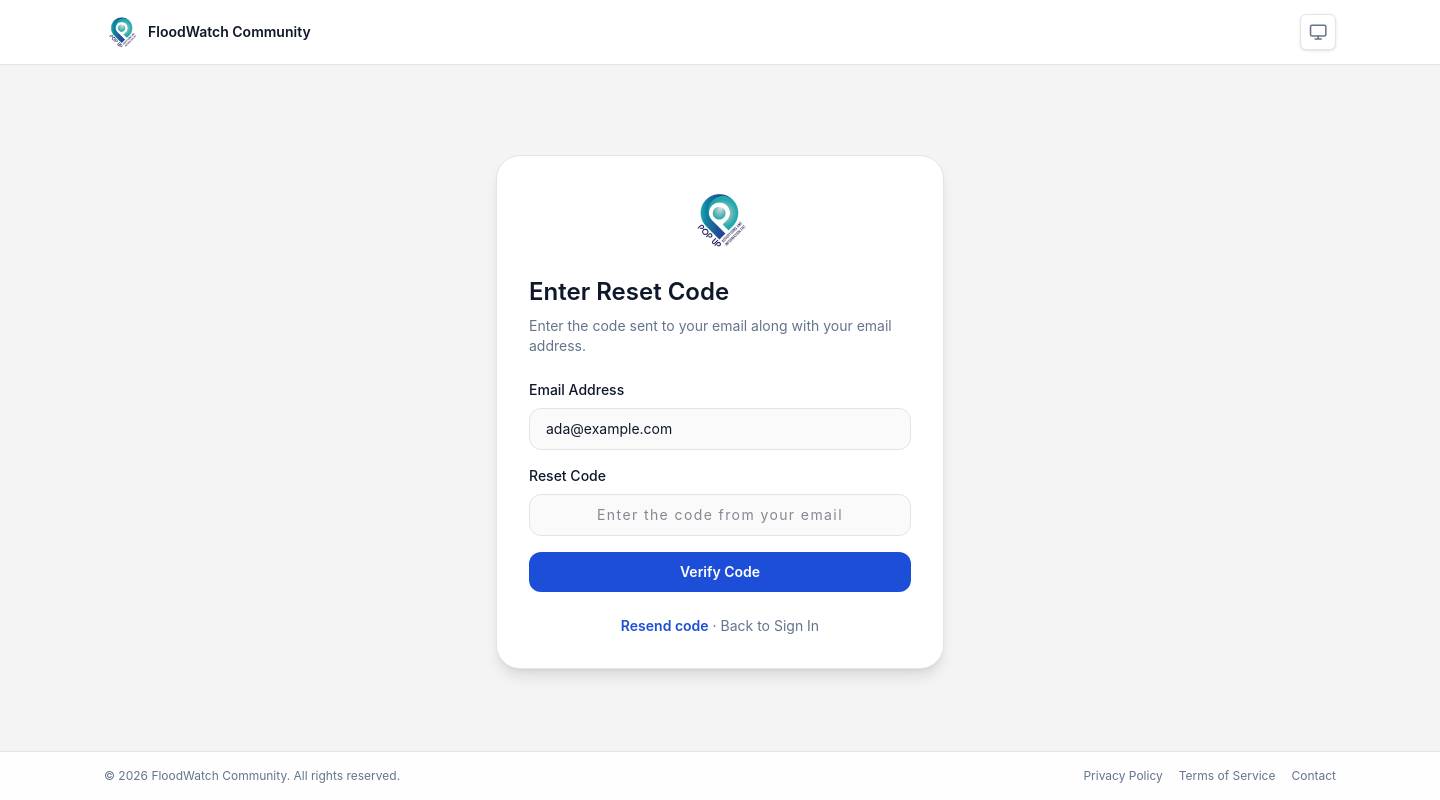
it: Community · reset password › advances to the new-password step after verifying the code
Type "123456" into the field with test id "reset-code" at (720,515), box top-left (529, 494), bottom-right (911, 536)
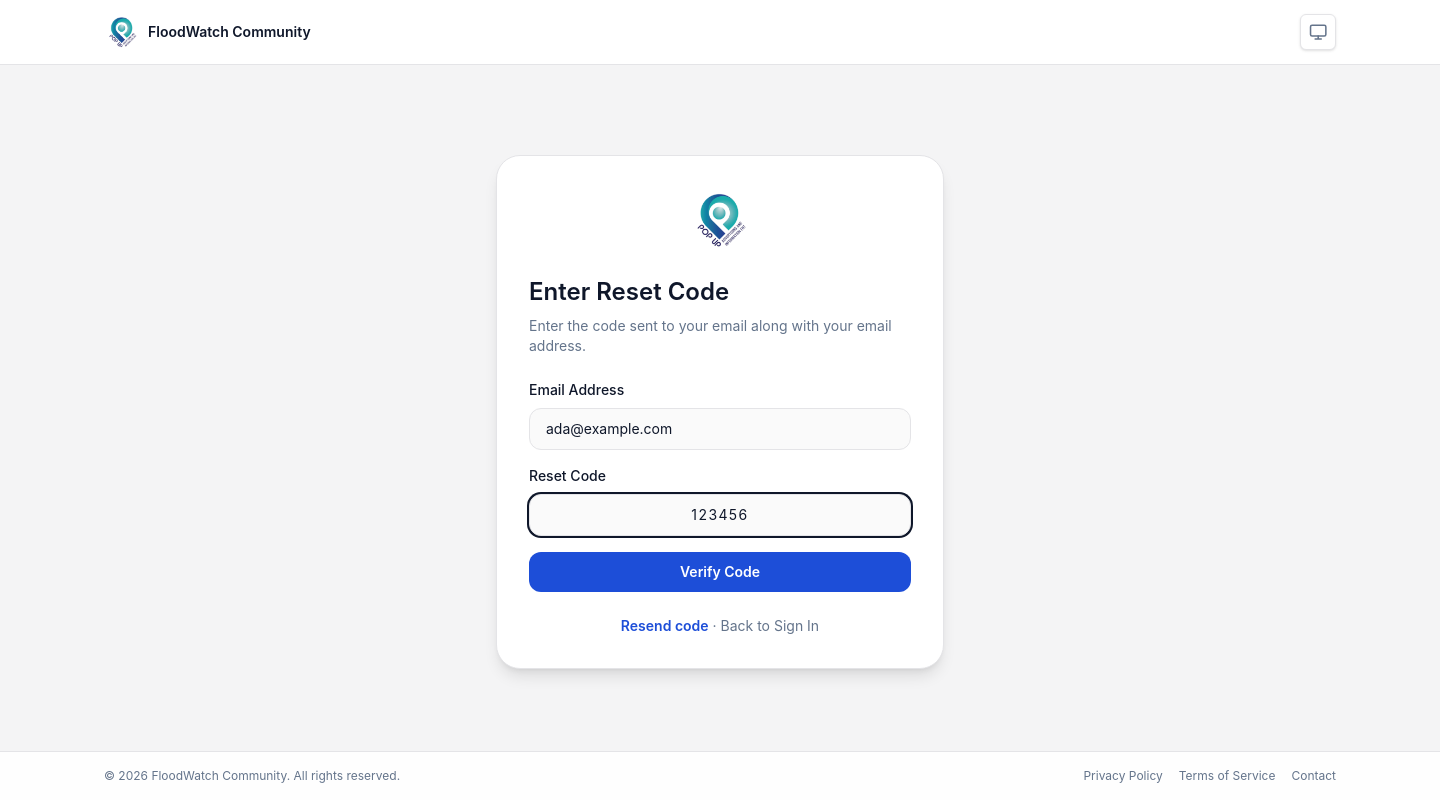
Click the button with test id "reset-verify-submit" at (720,572), box top-left (529, 552), bottom-right (911, 592)
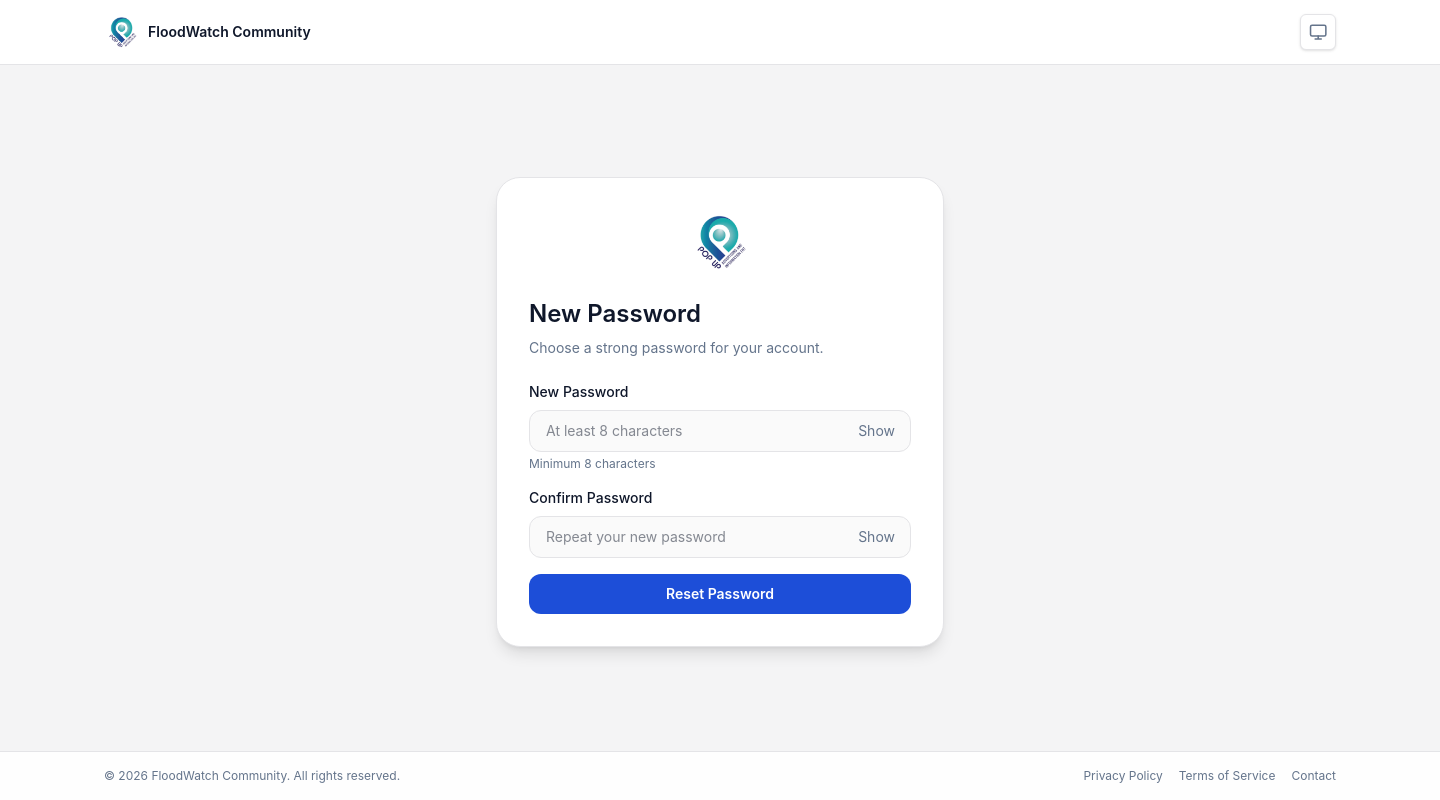
Expected: the heading "New Password" is shown, top-left (529, 298), bottom-right (701, 328)
Expected: the password field with test id "reset-new-password" is shown, top-left (529, 410), bottom-right (911, 452)
Expected: the password field with test id "reset-confirm-password" is shown, top-left (529, 516), bottom-right (911, 558)
